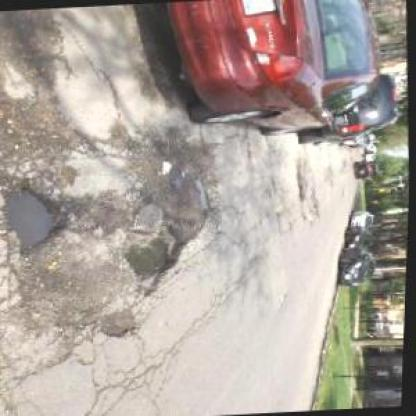pothole: (117, 218, 194, 298), (0, 180, 71, 258), (100, 306, 140, 340), (296, 167, 310, 200), (157, 158, 176, 178)
